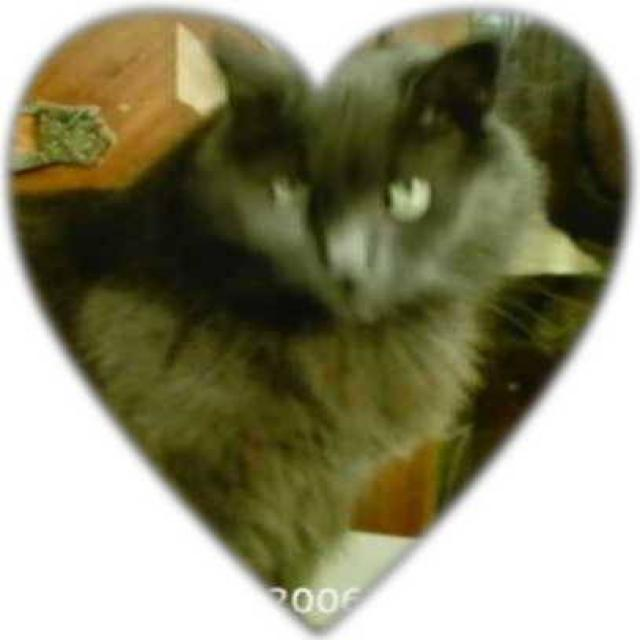cat: (13, 9, 624, 610)
